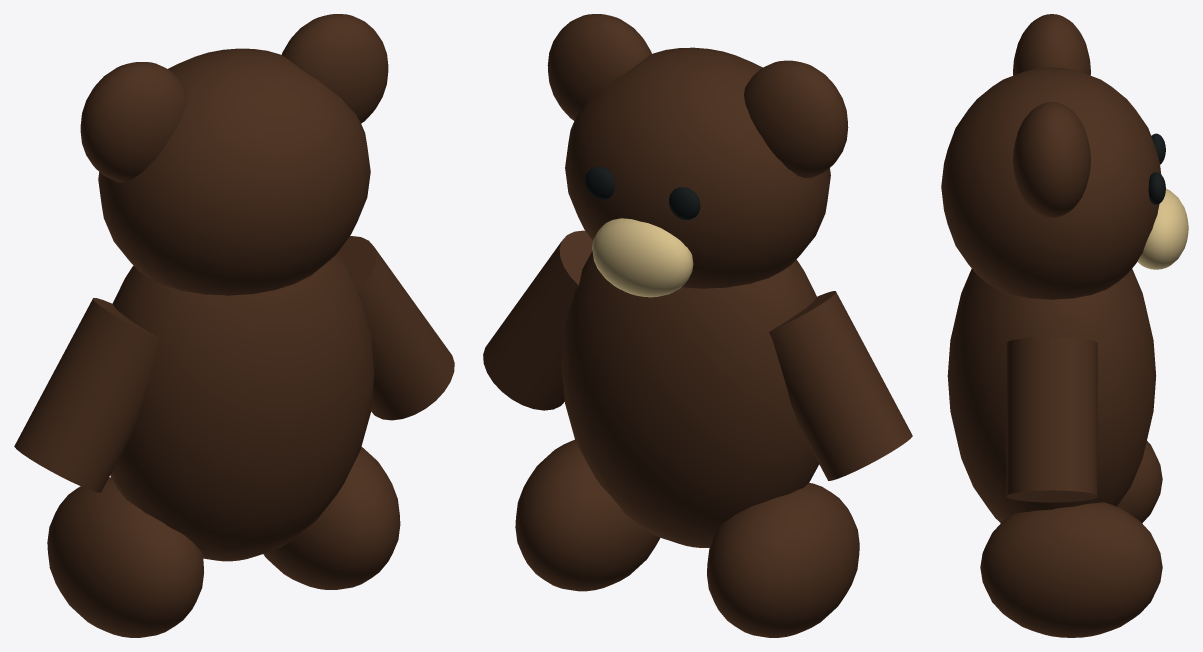
The model's file is Teddy.obj.
The picture shows the model from 3 angles, left to right: view 1: azimuth 30°, elevation 25°; view 2: azimuth 150°, elevation 25°; view 3: azimuth 270°, elevation 25°; orthographic projection. The views are drawn at different scales.
Visible parts, largest first — view 1: Teddy; view 2: Teddy; view 3: Teddy.
Part boxes in pixels (bbox=[...]): Teddy: bbox=[14, 14, 454, 637]; Teddy: bbox=[483, 14, 912, 637]; Teddy: bbox=[941, 14, 1188, 637].
Size of the model in its own units: 0.6939 by 0.89 by 0.38.
